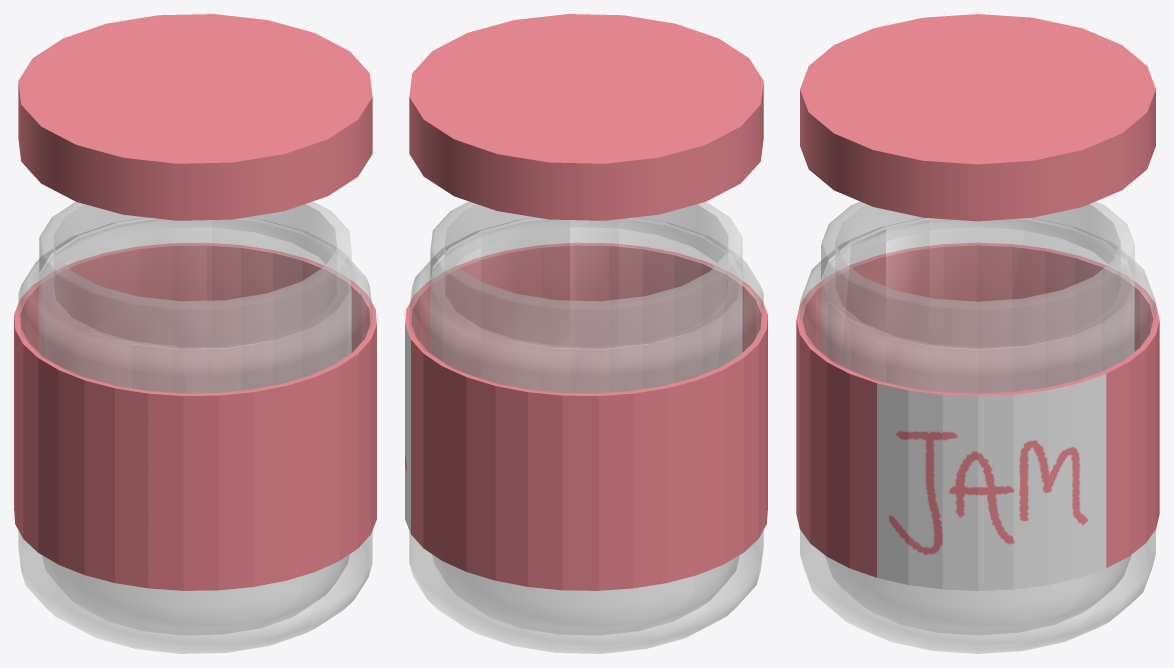
Rendered from jelly jar.fbx.
The picture shows the model from 3 angles, left to right: view 1: azimuth 30°, elevation 25°; view 2: azimuth 150°, elevation 25°; view 3: azimuth 270°, elevation 25°; orthographic projection.
Visible parts, largest first — view 1: Cylinder, polySurface1, polySurface3; view 2: Cylinder, polySurface1, polySurface3; view 3: Cylinder, polySurface1, polySurface3.
Boxes of the visible parts, <box> form: Cylinder: <box>14,242,376,590</box>; polySurface1: <box>18,201,372,653</box>; polySurface3: <box>18,14,372,220</box>; Cylinder: <box>405,242,767,590</box>; polySurface1: <box>409,201,763,653</box>; polySurface3: <box>409,14,763,220</box>; Cylinder: <box>796,242,1159,590</box>; polySurface1: <box>800,201,1155,653</box>; polySurface3: <box>800,14,1155,221</box>.
Size of the model in its own units: 204 by 314 by 204.
